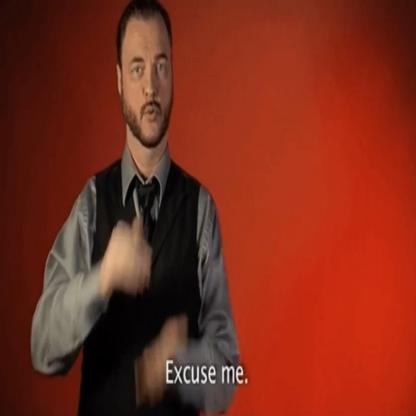ExcuseMe: (28, 0, 250, 410)
